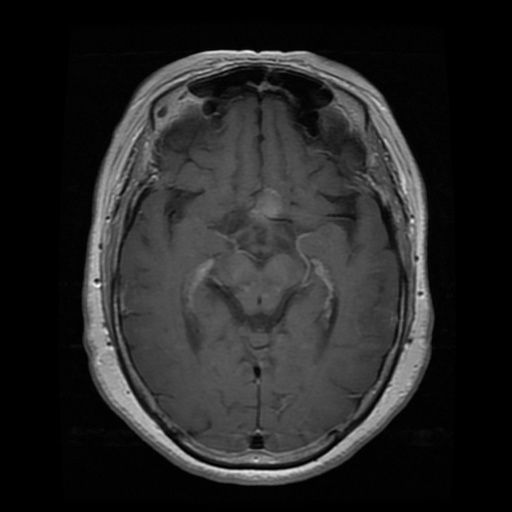pituitary: (254, 185, 286, 219)
